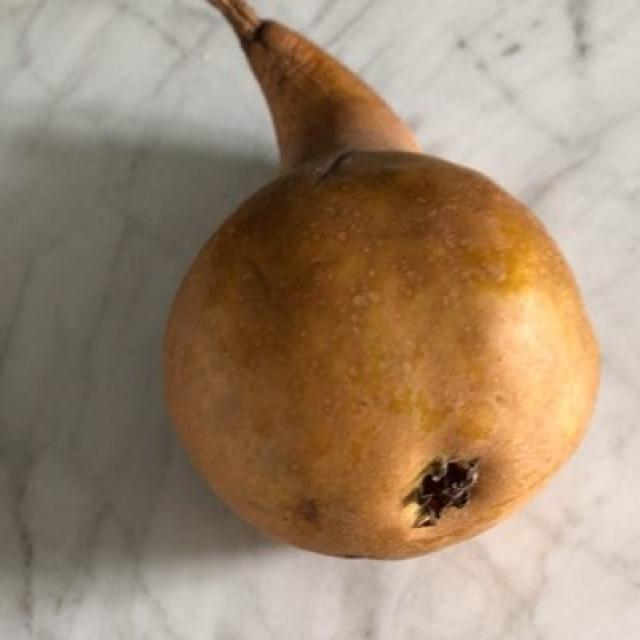pear: (167, 9, 593, 553)
